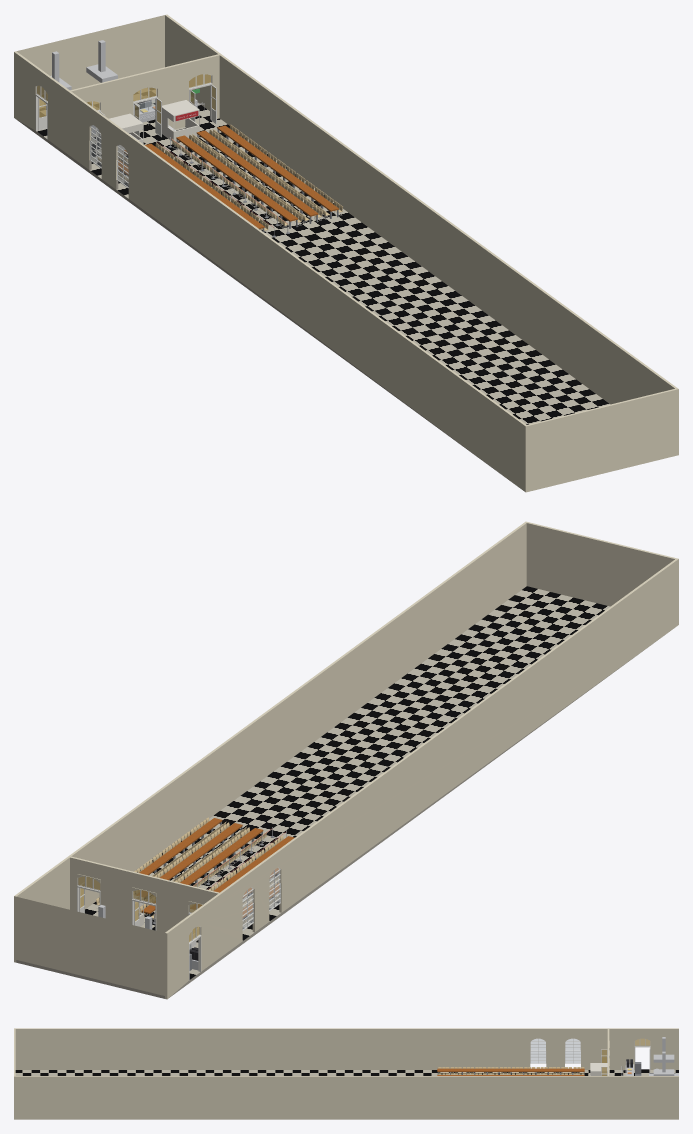
The model's file is comedor-blender-liviano.dae.
3 views of the same model, one above another, from view 1: azimuth 30°, elevation 25°; view 2: azimuth 150°, elevation 25°; view 3: azimuth 270°, elevation 25° (orthographic). The views are drawn at different scales.
Parts seen in each view (by area): view 1: G-Object.005, G-Object.001; view 2: G-Object.005; view 3: G-Object.005, Ventana izq 2 vidrio, Ventana izq 1 vidrio, G-Object, Campana 1.
Boxes of the visible parts, x1,y1,x2,y2 form: G-Object.005: (14, 14, 678, 492); G-Object.001: (162, 100, 199, 141); G-Object.005: (14, 521, 678, 999); G-Object.005: (14, 1028, 678, 1119); Ventana izq 2 vidrio: (565, 1038, 580, 1062); Ventana izq 1 vidrio: (530, 1038, 545, 1062); G-Object: (590, 1063, 607, 1075); Campana 1: (653, 1054, 674, 1062).
Size of the model in its own units: 16.52 by 95.5 by 6.8.
Materials: 31 (2 with a texture image).
